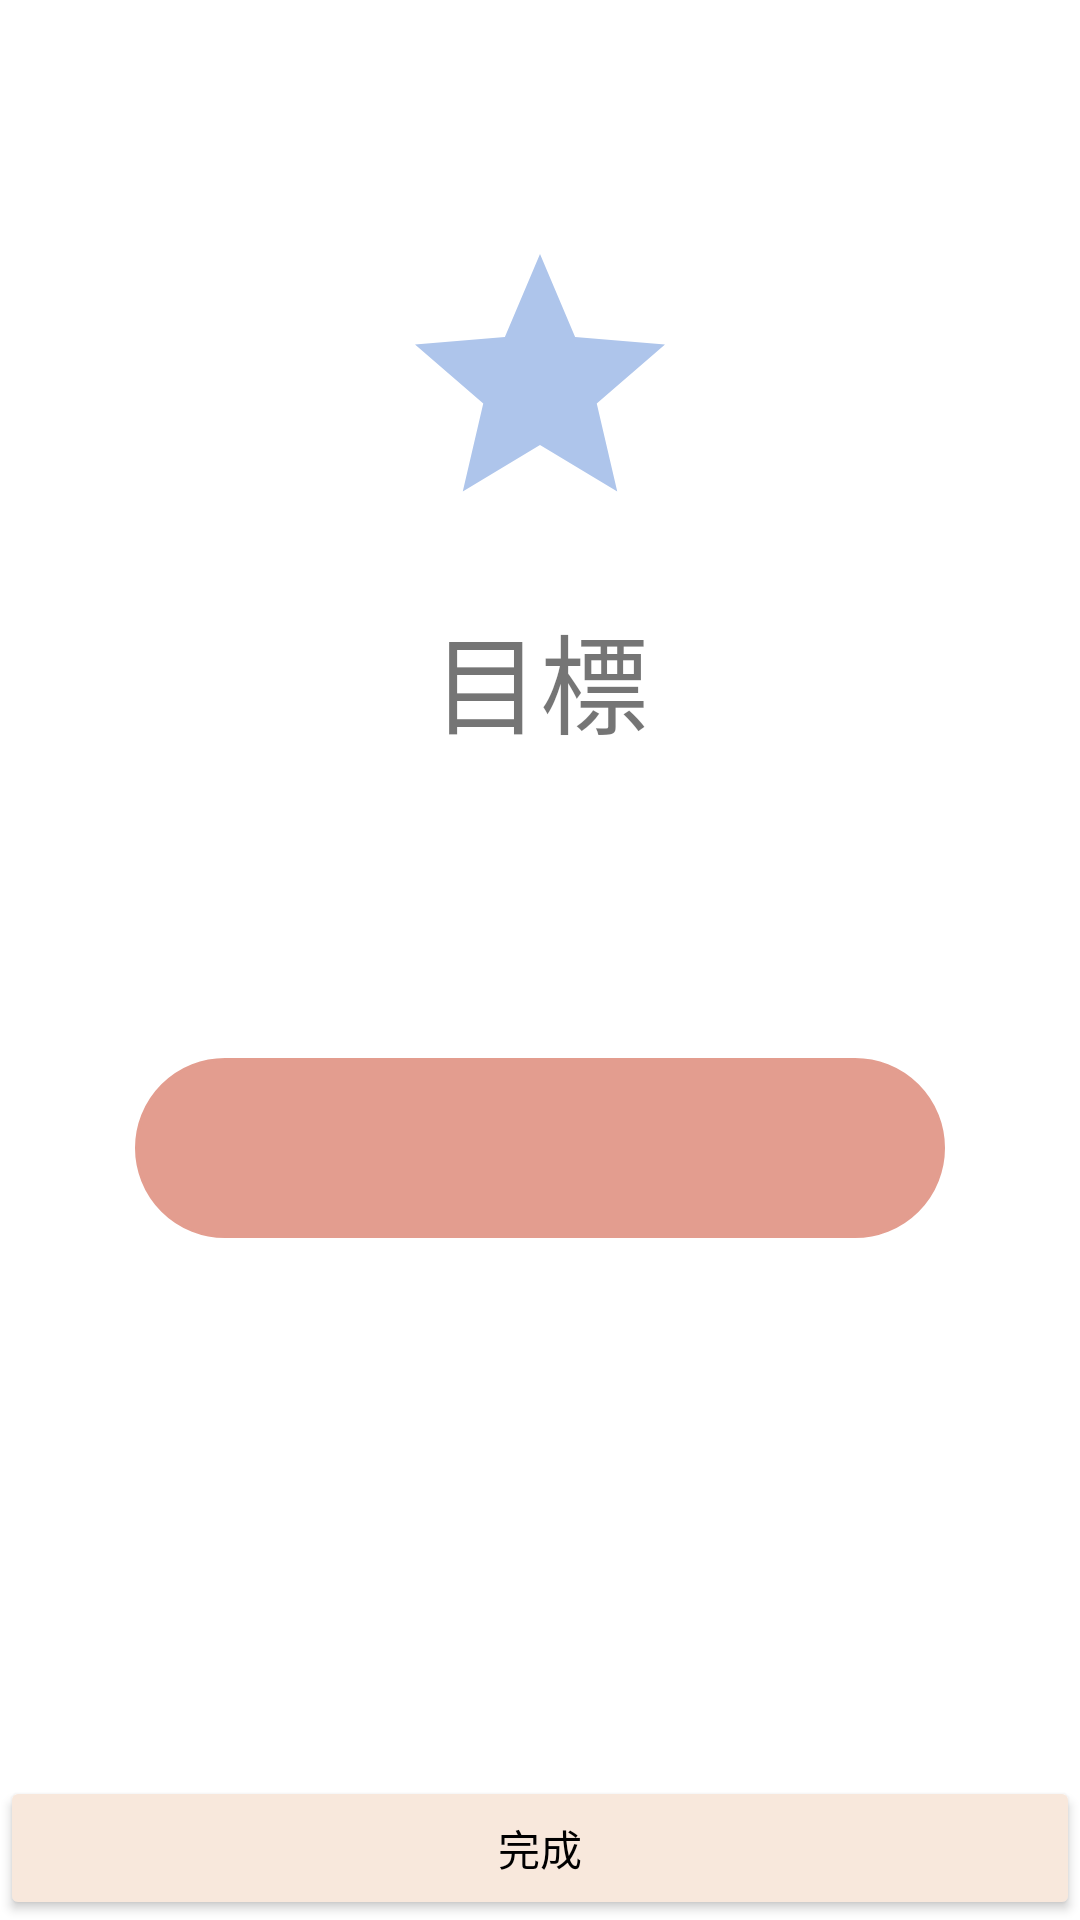

Where to tap for icons on this 1080px×1920px app screen, as (x,y):
star: (540,373)
